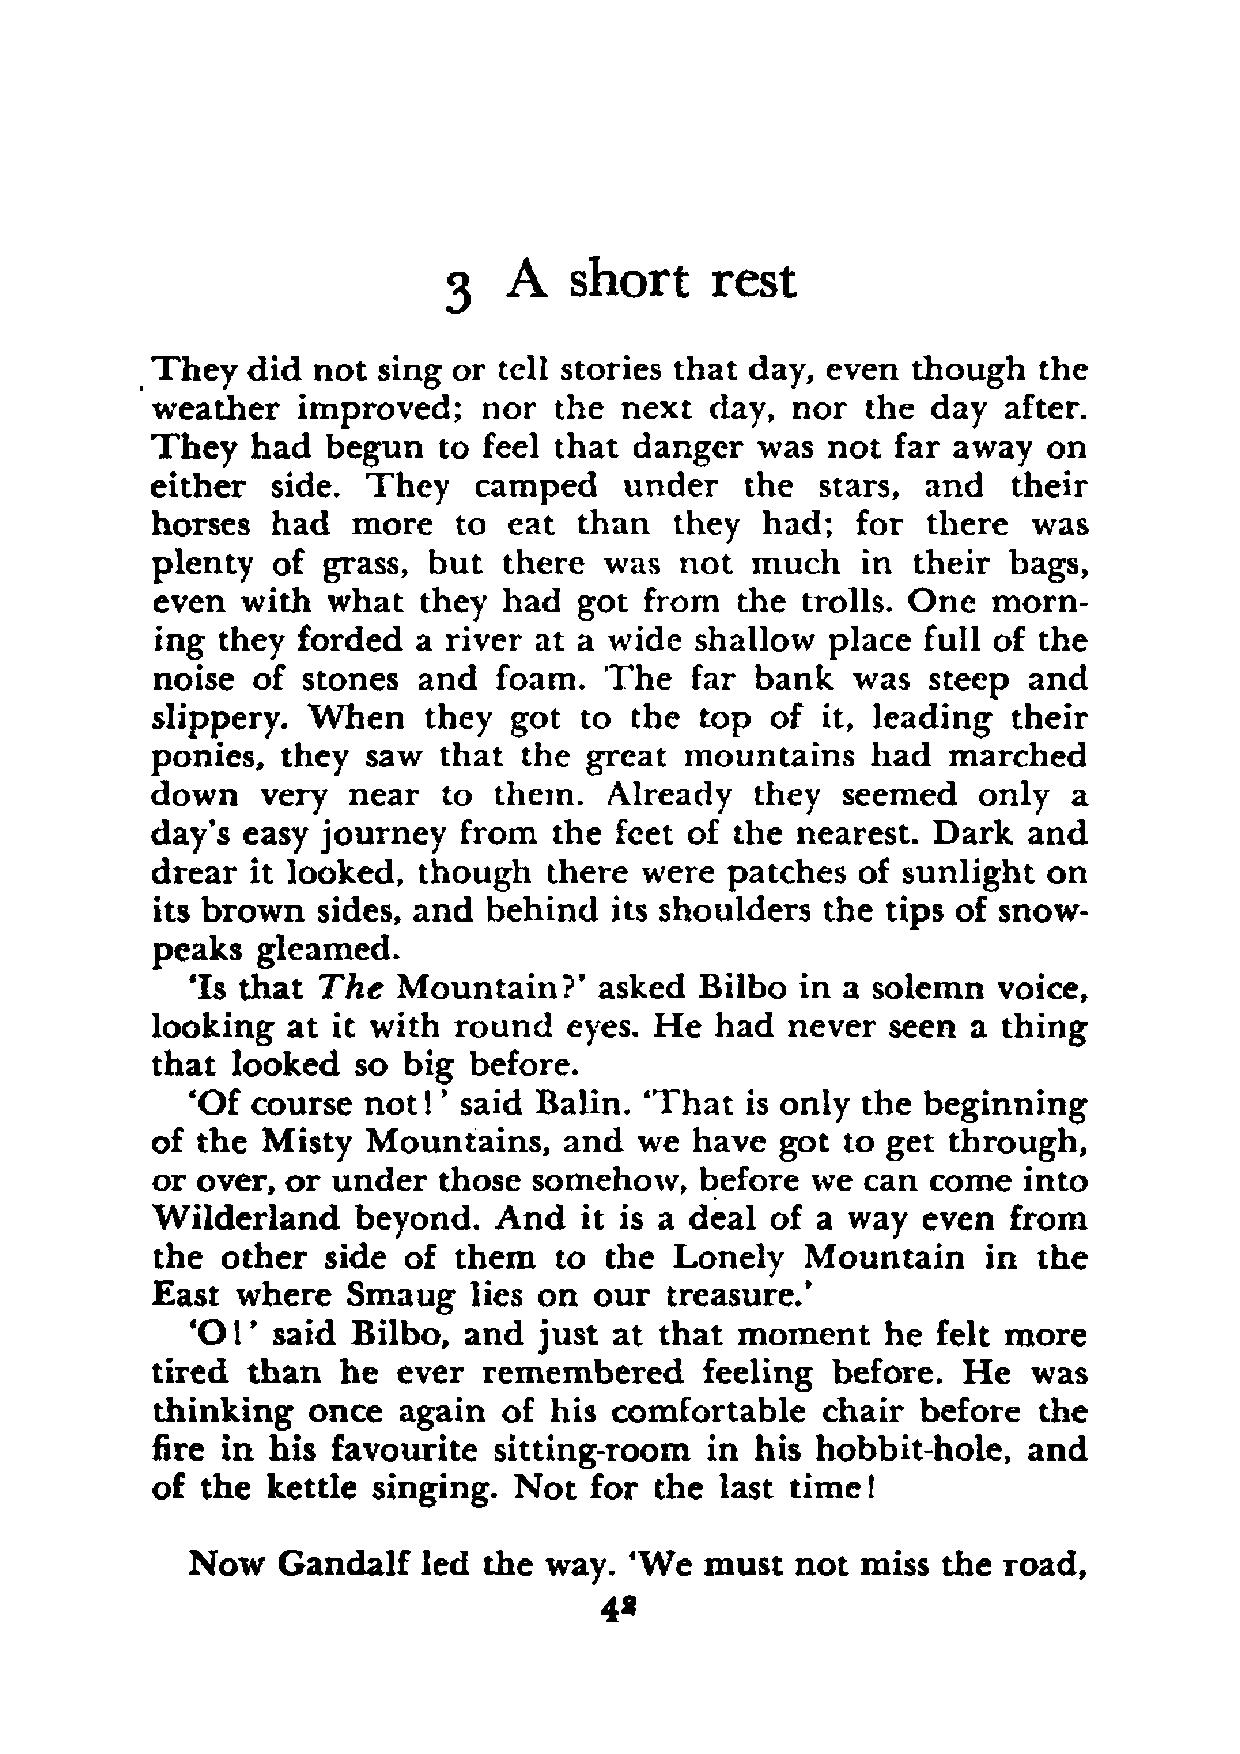chapter: (442, 255, 798, 318)
content: (146, 352, 1090, 1586)
content_pagenumber: (599, 1590, 637, 1627)
